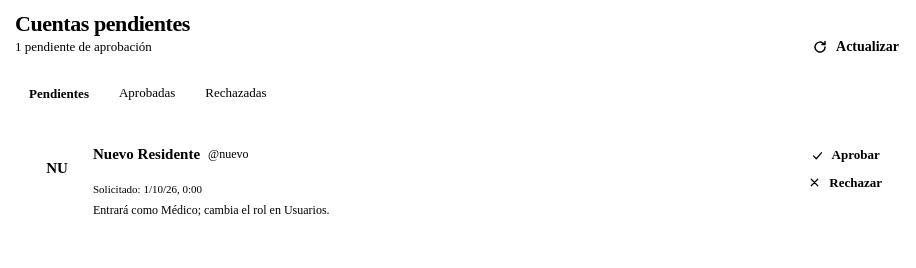
Test case: aviso a la barra lateral › si el servidor falla no avisa
The width and height of the screenshot is (916, 268).
What coordinates should you click on to do the following:
click the button "Aprobar"
I would click on:
 (845, 155)
Its box is [795,146,895,164].
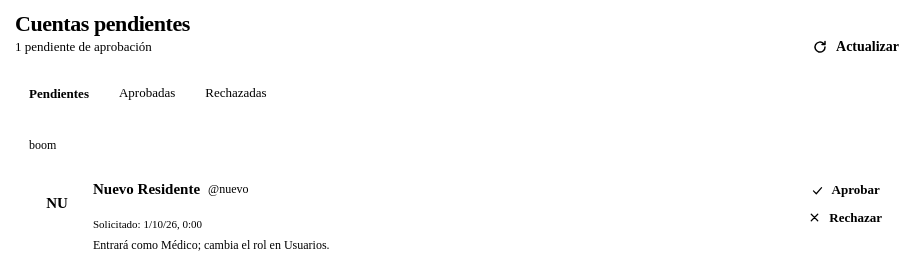
Result: the text "boom" is shown at [29,138,56,152]
